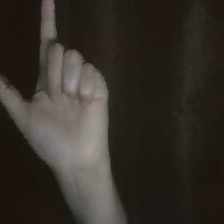L: (1, 1, 123, 176)
